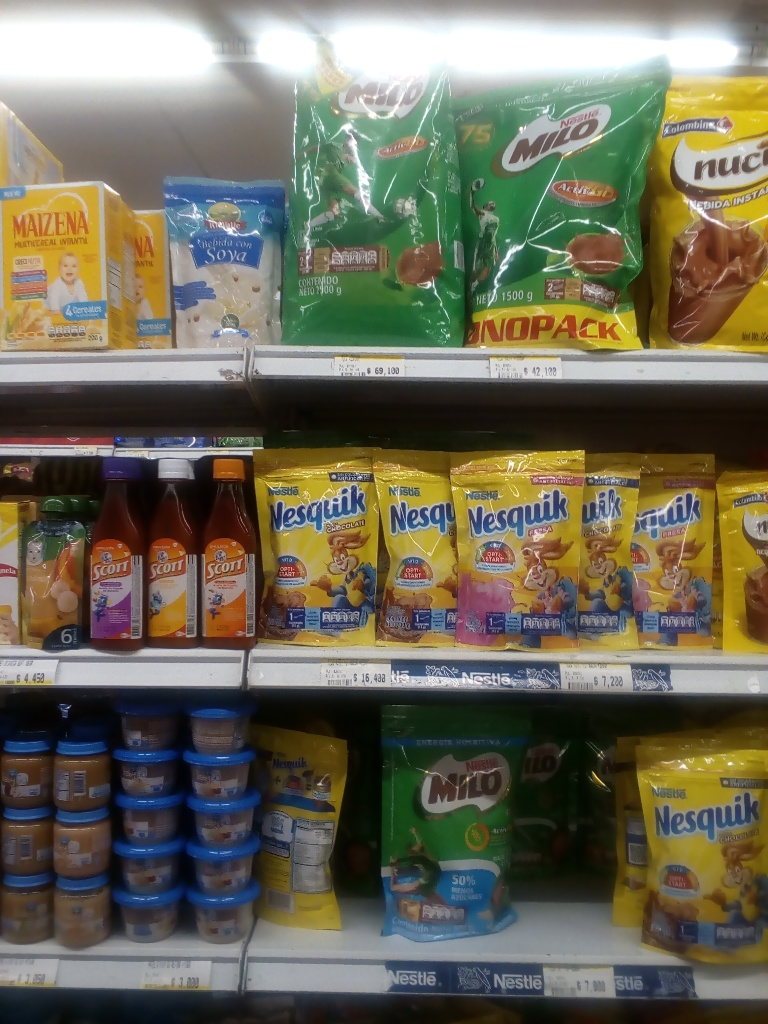COL0170303DYP20000: (586, 447, 639, 656)
COL0170305DYP20000: (625, 447, 722, 656)
